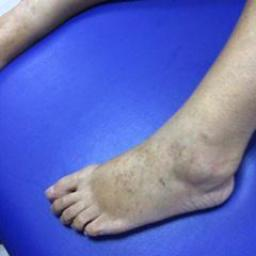Lateral View -Left Foot-: (38, 117, 248, 239)
